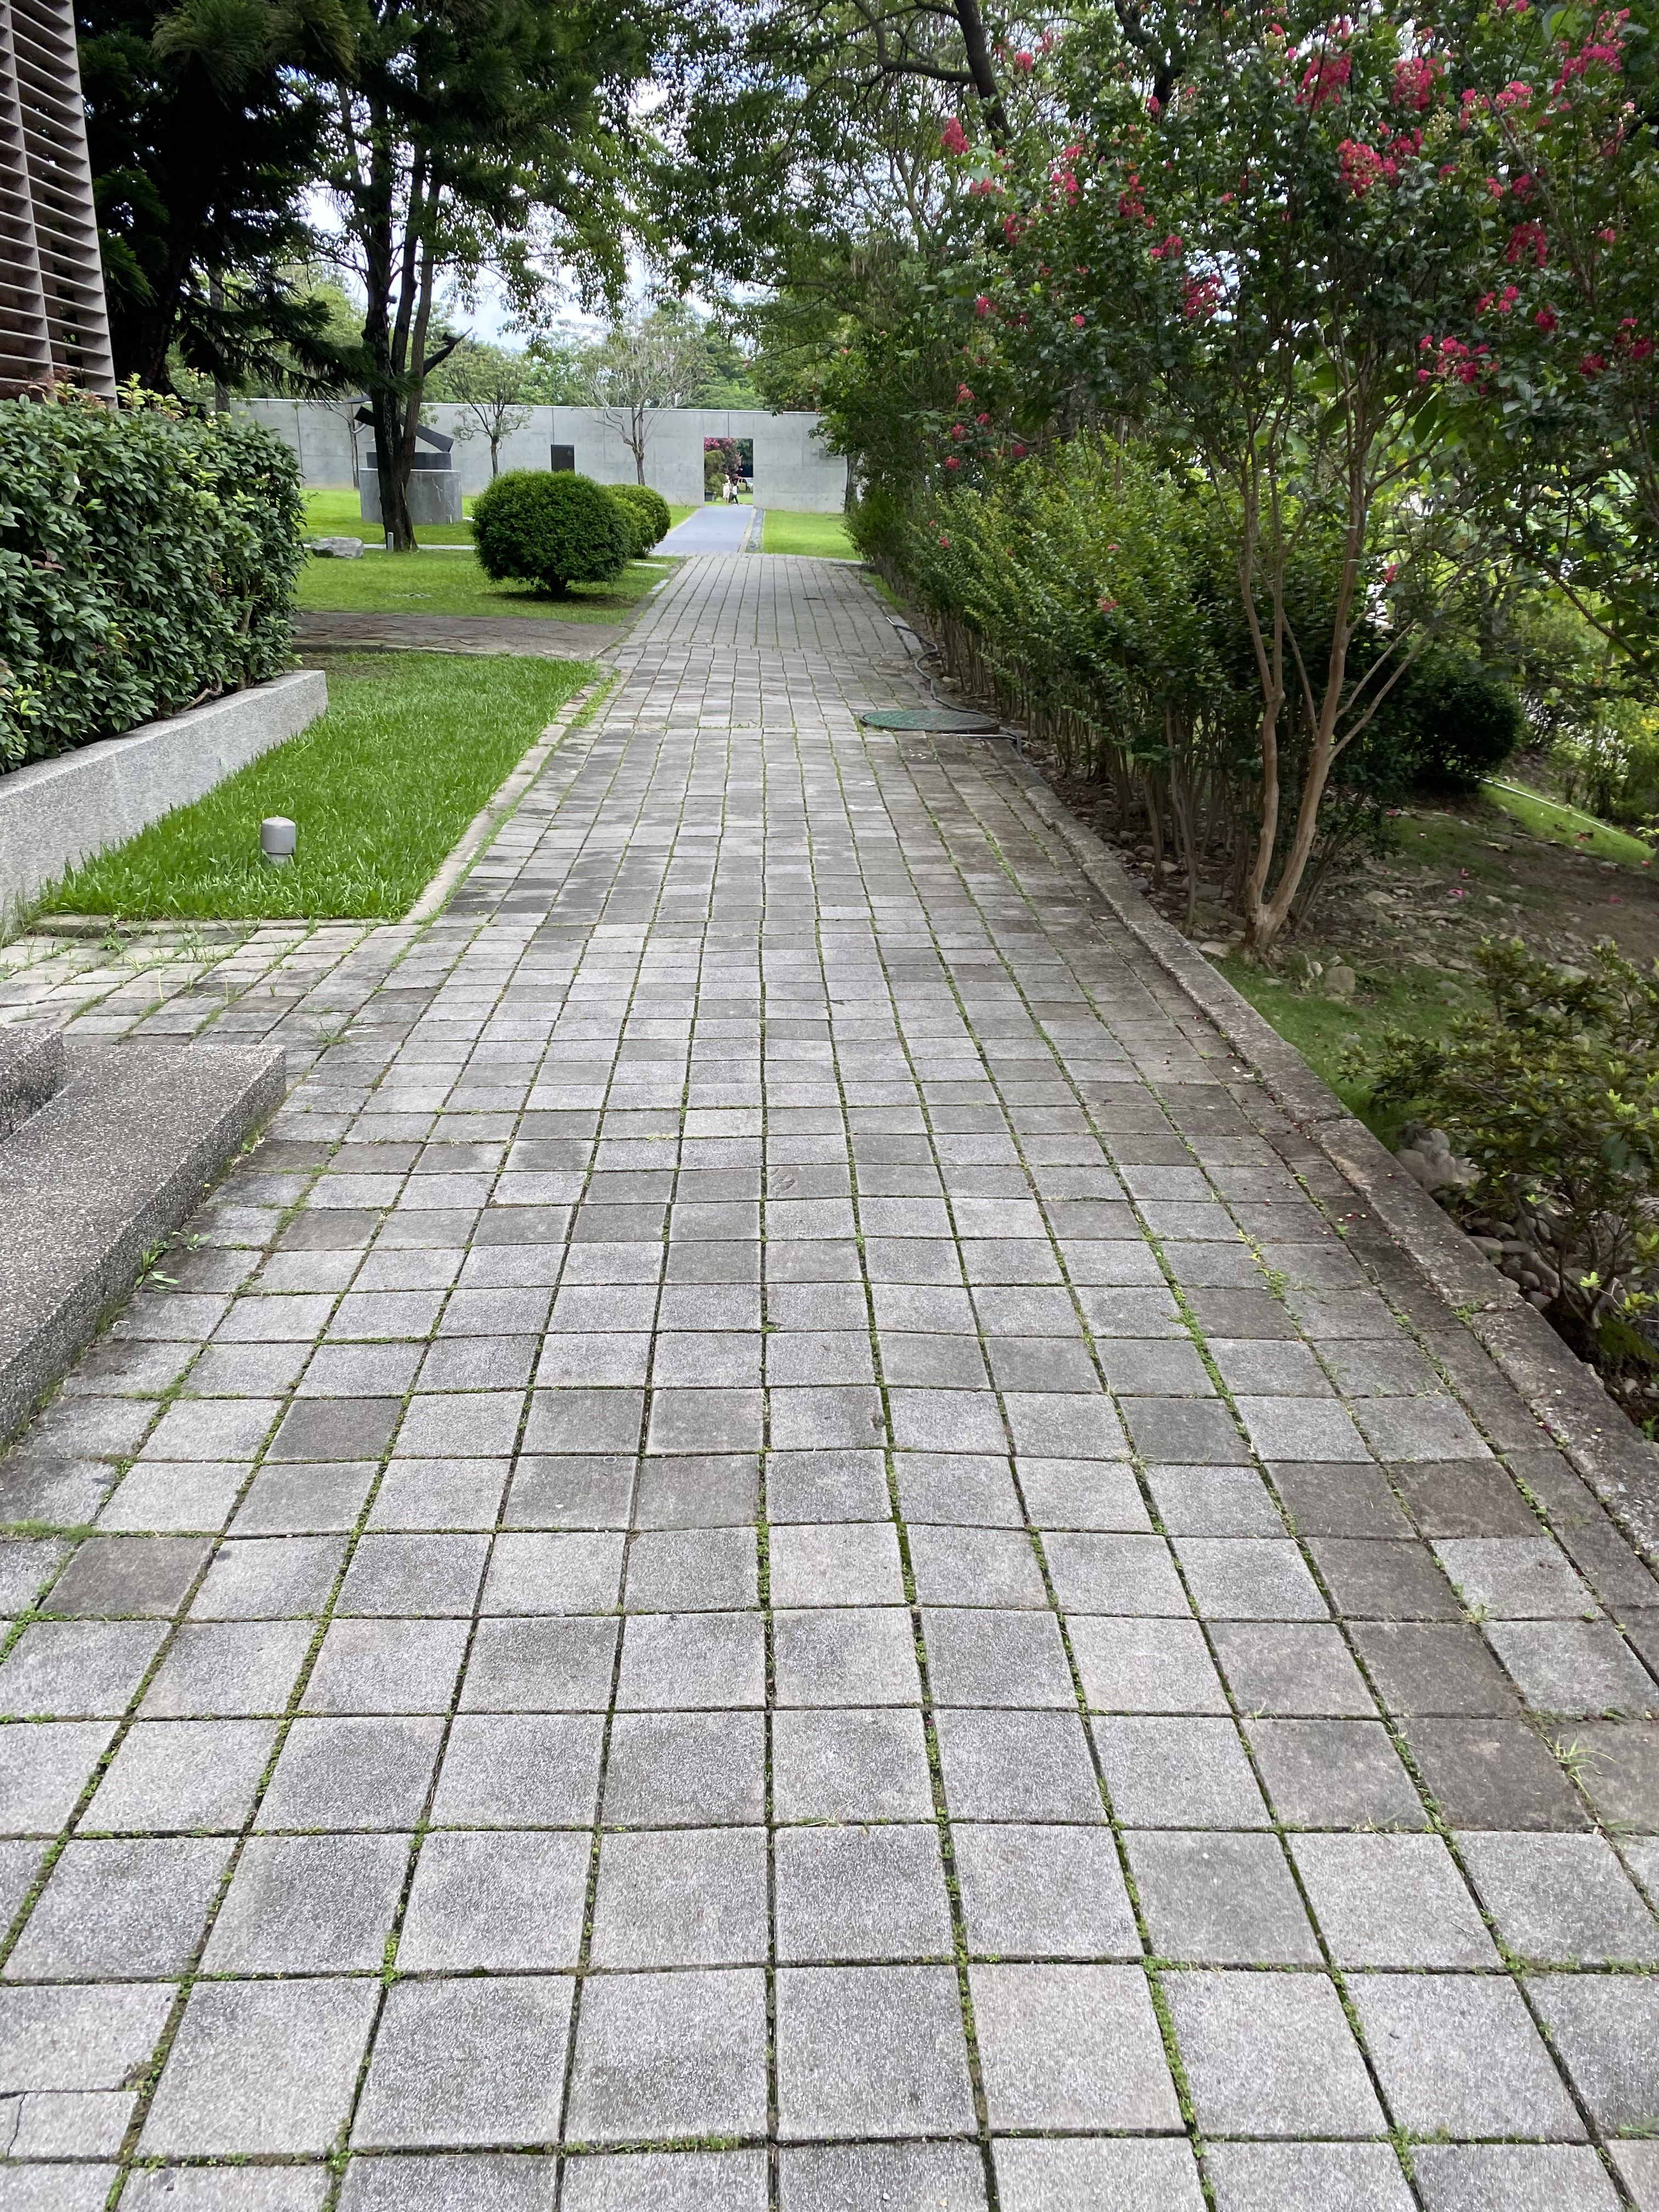0: (5, 629, 744, 2212)
sidewalk: (648, 528, 1659, 2212)
